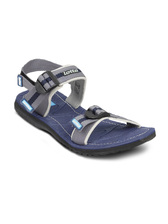shoes: (12, 58, 157, 154)
